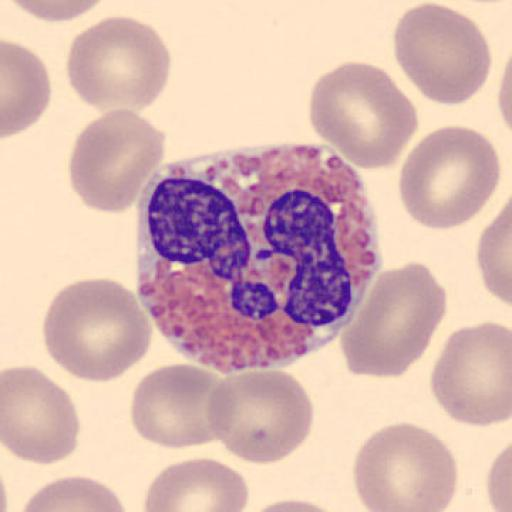RBC: (338, 260, 448, 380), (306, 60, 420, 171), (41, 278, 154, 384), (398, 124, 502, 230), (205, 368, 316, 466), (66, 14, 172, 116), (68, 107, 167, 216), (392, 2, 493, 108), (352, 420, 460, 512), (429, 320, 512, 428), (129, 362, 228, 450), (1, 363, 81, 466), (142, 455, 250, 512), (2, 40, 52, 140), (19, 474, 129, 512), (476, 200, 512, 308), (7, 0, 112, 23), (485, 438, 512, 512), (241, 496, 346, 512), (496, 48, 512, 134), (438, 0, 512, 4)
WBC: (140, 143, 379, 373), (138, 224, 378, 373)
